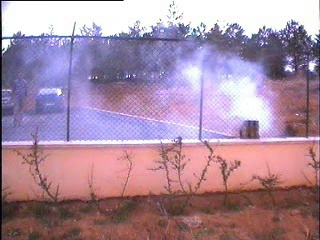smoke: (143, 22, 287, 139)
